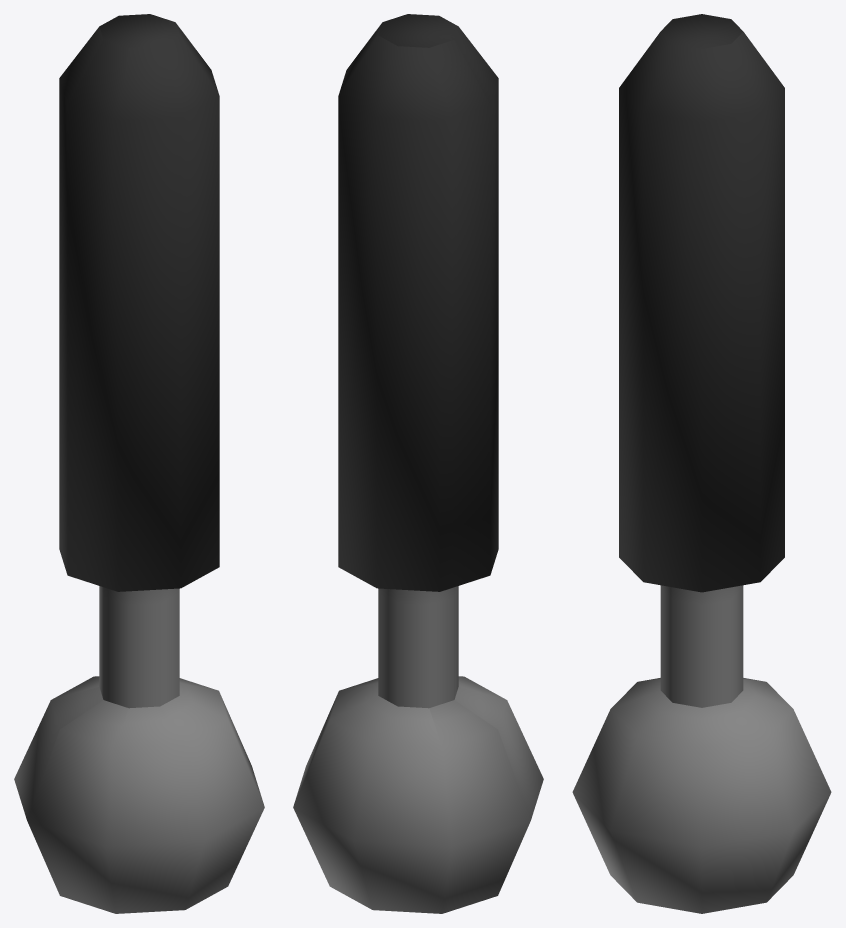
Rendered from crane_console_joystick.obj.
The picture shows the model from 3 angles, left to right: view 1: azimuth 30°, elevation 25°; view 2: azimuth 150°, elevation 25°; view 3: azimuth 270°, elevation 25°; orthographic projection.
Parts seen in each view (by area): view 1: Joystick; view 2: Joystick; view 3: Joystick.
Part boxes in pixels (x1,y1,x2,y2): Joystick: (14, 14, 264, 913); Joystick: (293, 14, 543, 913); Joystick: (572, 14, 831, 913).
Size of the model in its own units: 0.0625 by 0.2337 by 0.0625.
